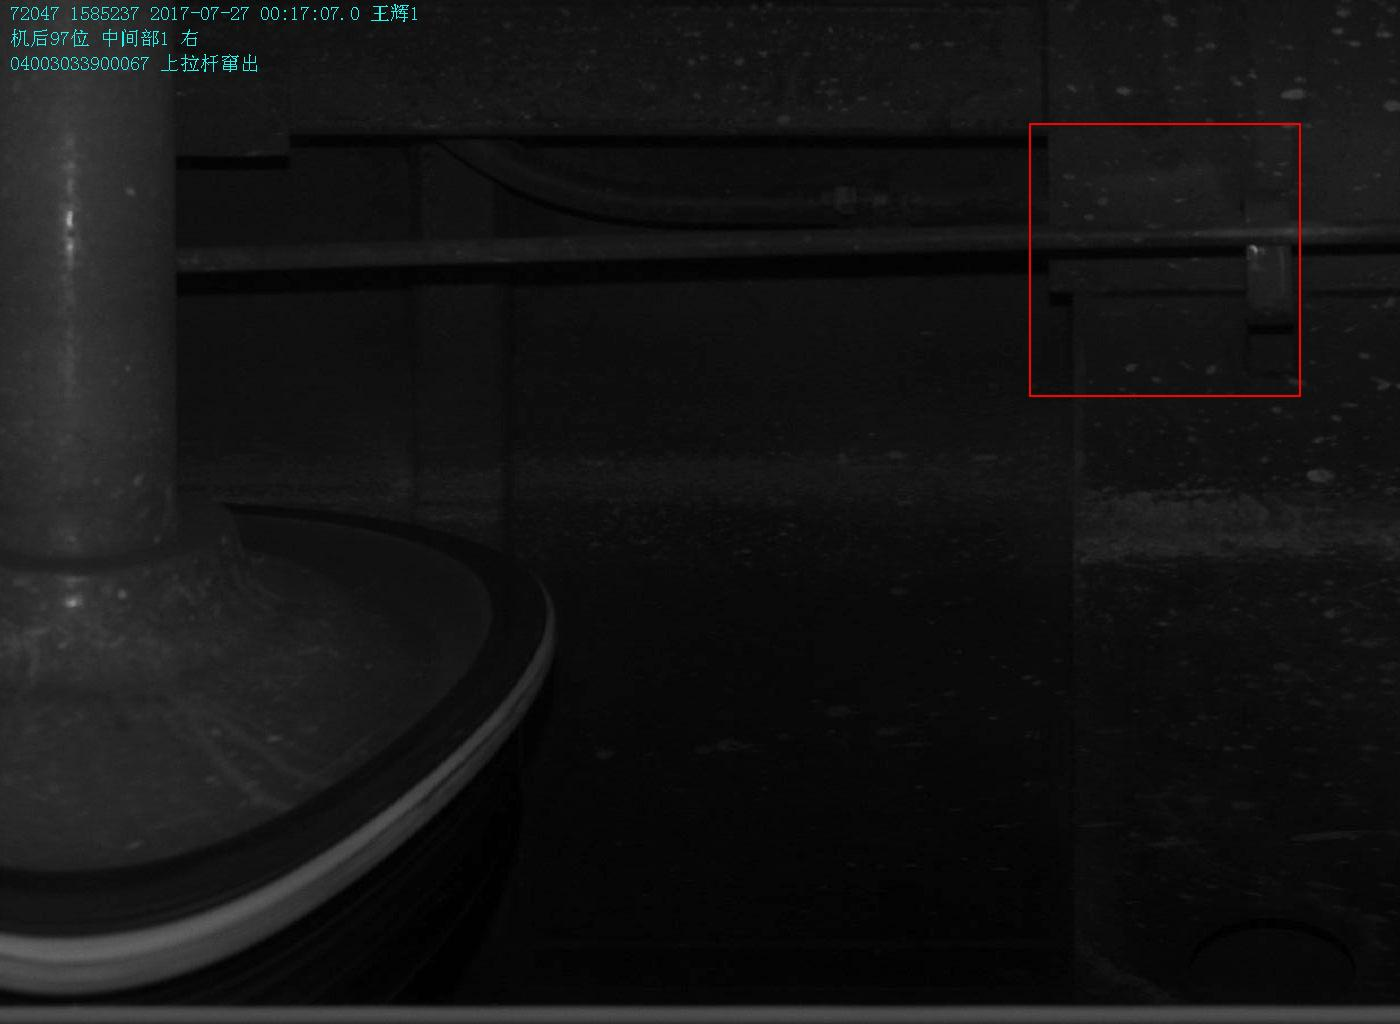Upper lever: (1249, 165, 1302, 332)
